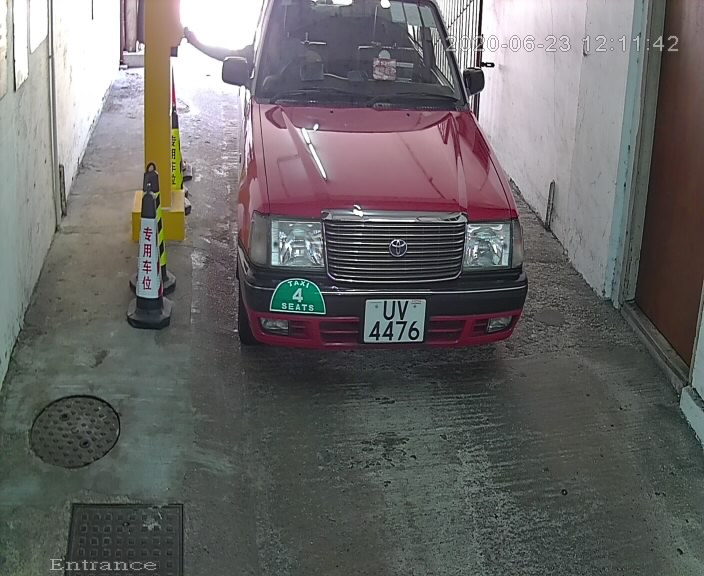taxi: (208, 1, 550, 377)
taxi_mark: (265, 269, 339, 324)
